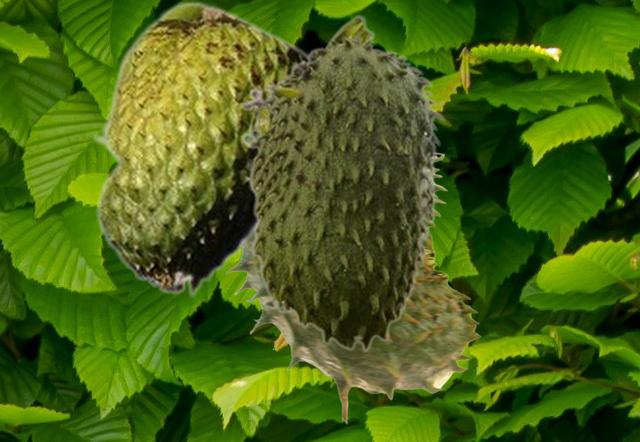guyabano: (223, 150, 480, 423), (241, 13, 445, 351), (92, 0, 307, 298)
